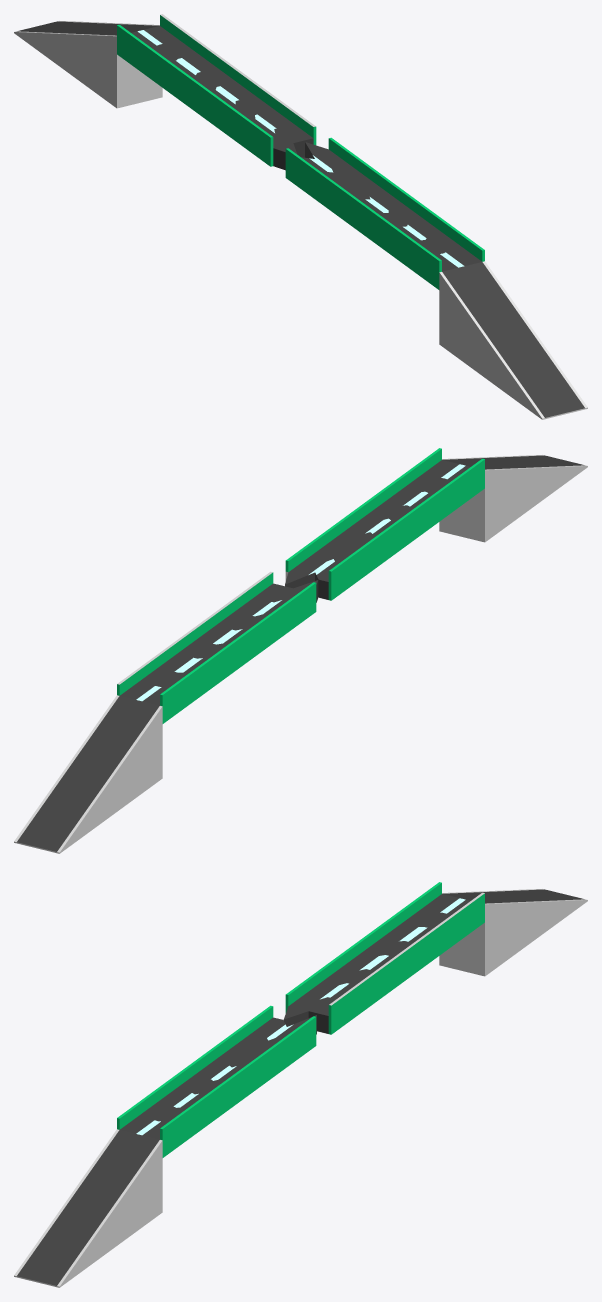
Rendered from SD_BridgePrototype.fbx.
The picture shows the model from 3 angles, top to bottom: view 1: azimuth 30°, elevation 25°; view 2: azimuth 150°, elevation 25°; view 3: azimuth 330°, elevation 25°; orthographic projection.
Visible parts, largest first — view 1: Cube; view 2: Cube; view 3: Cube.
Boxes of the visible parts, x1,y1,x2,y2 form: Cube: [14, 14, 587, 419]; Cube: [14, 448, 587, 853]; Cube: [14, 882, 587, 1287].
Size of the model in its own units: 858 by 1497 by 17198.
